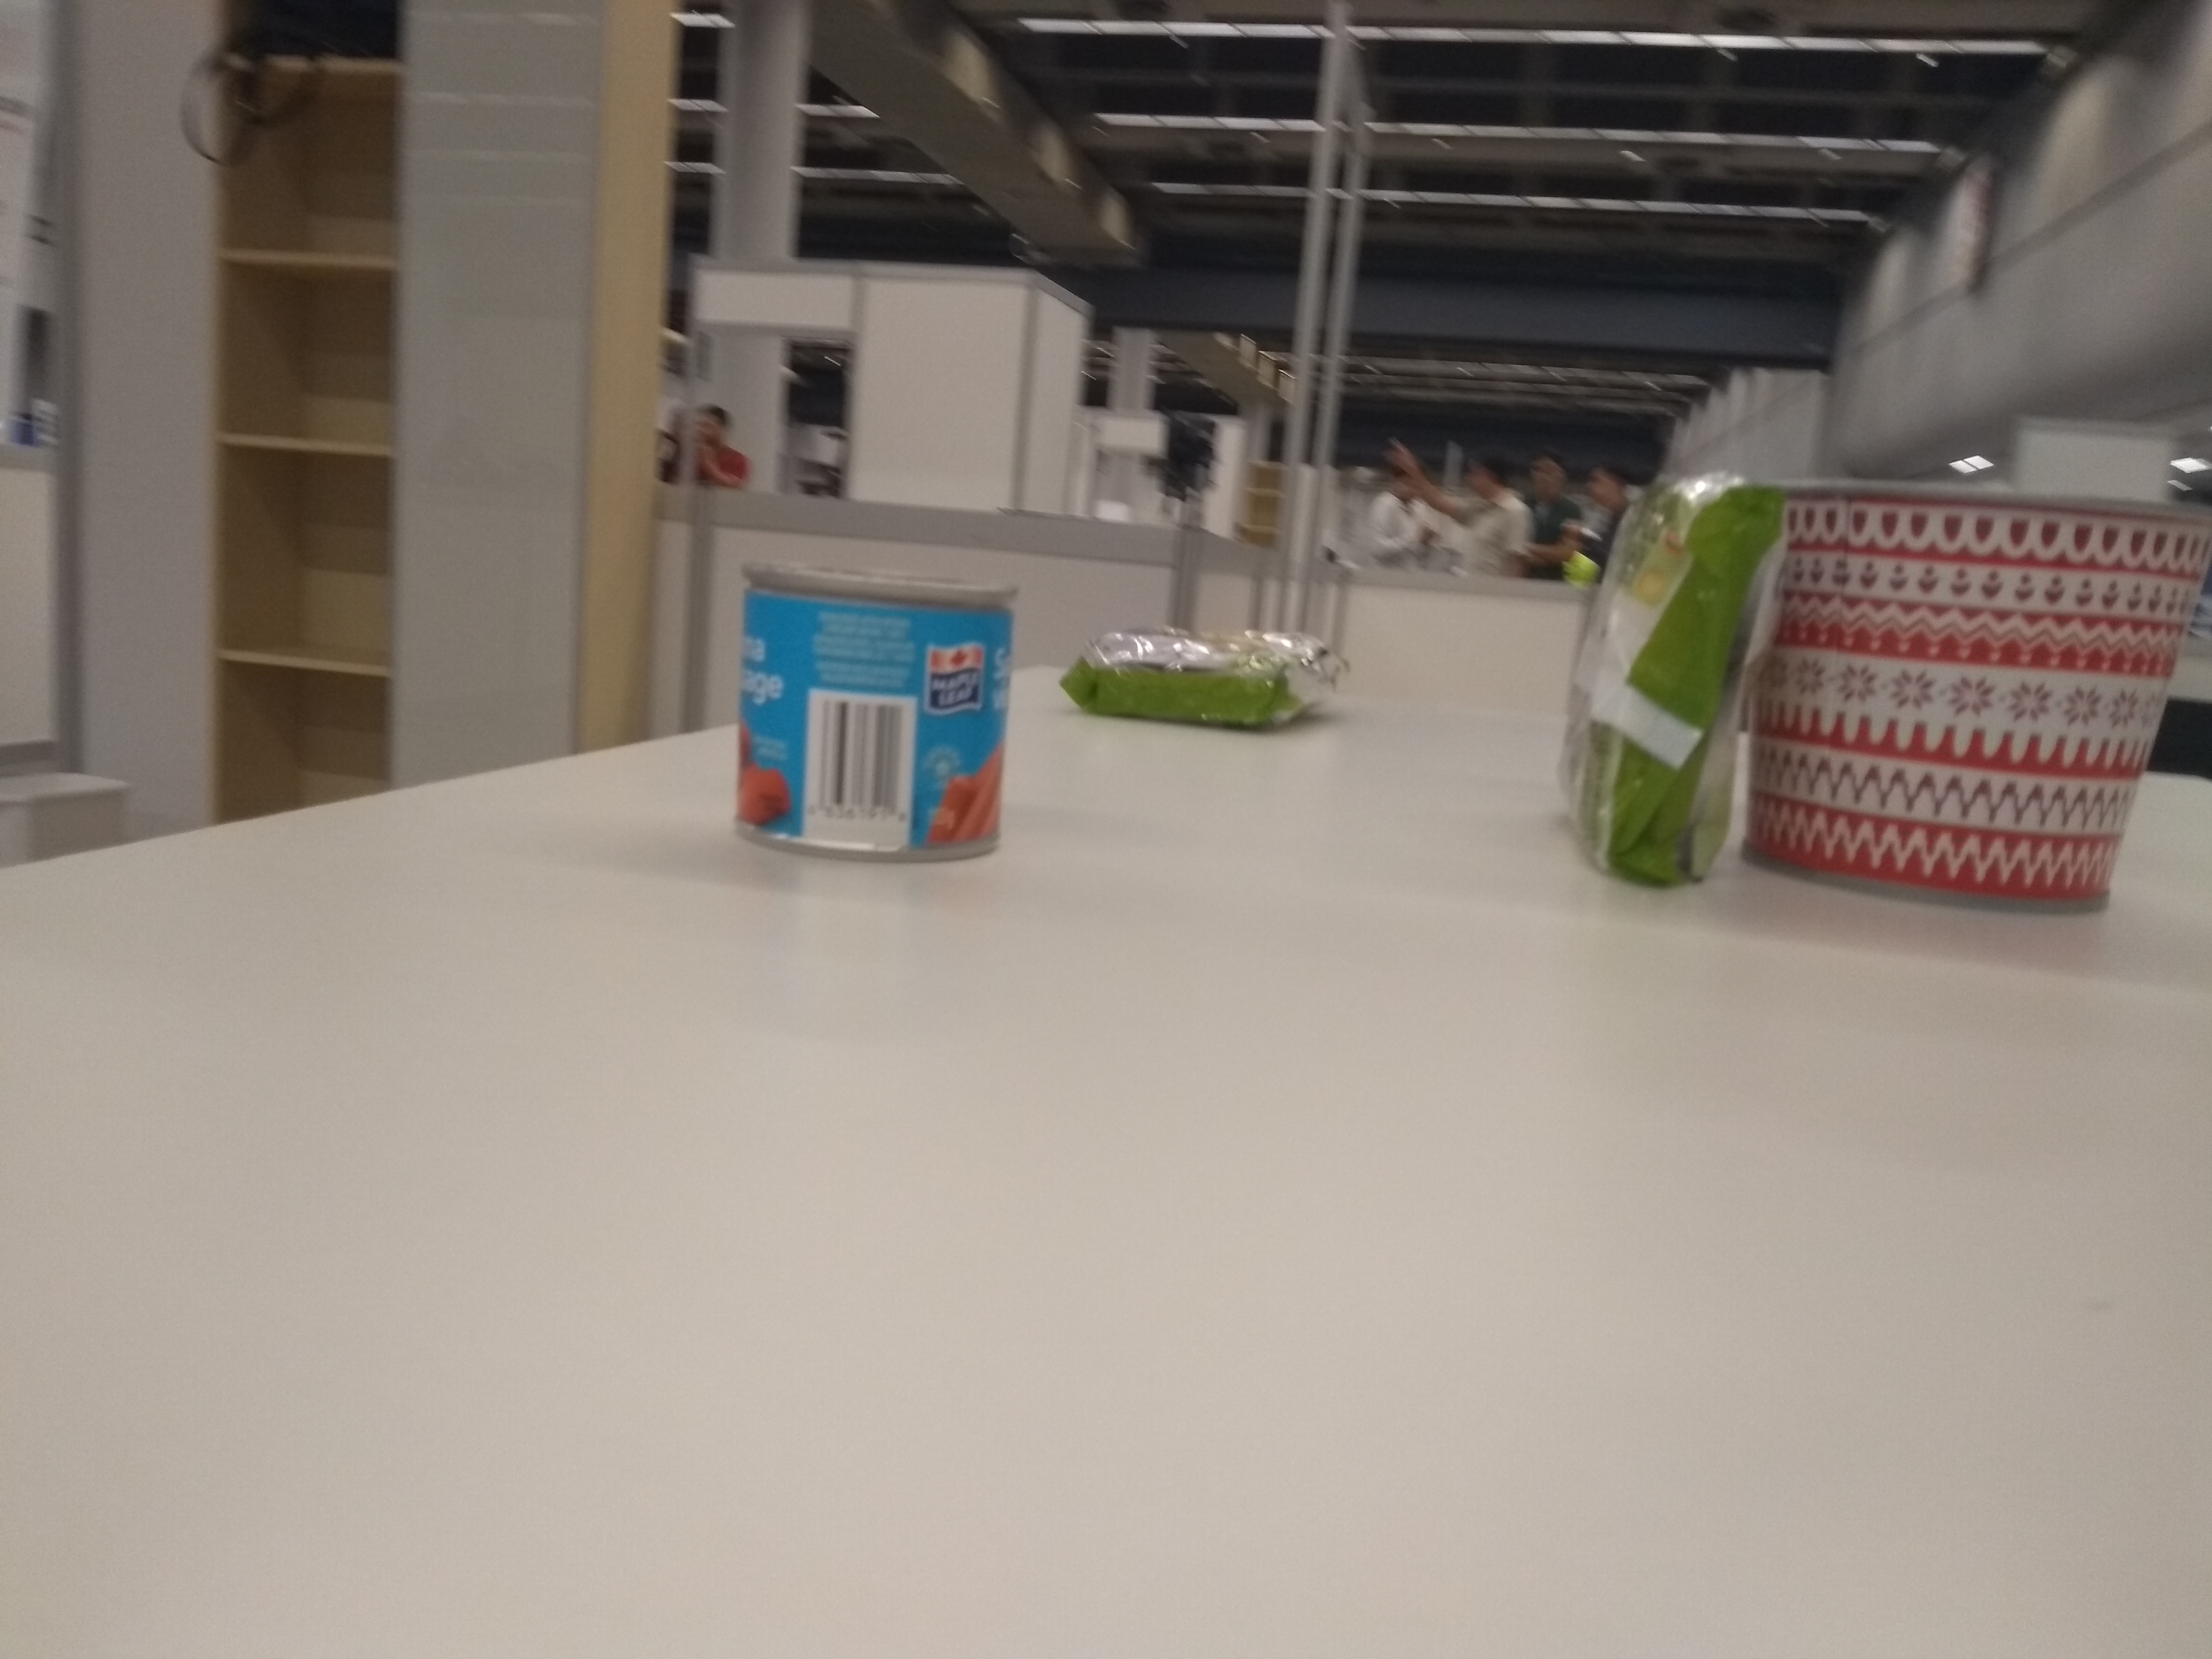noodles: (1557, 457, 1808, 932), (1050, 606, 1367, 744)
sausages: (723, 558, 1021, 878)
